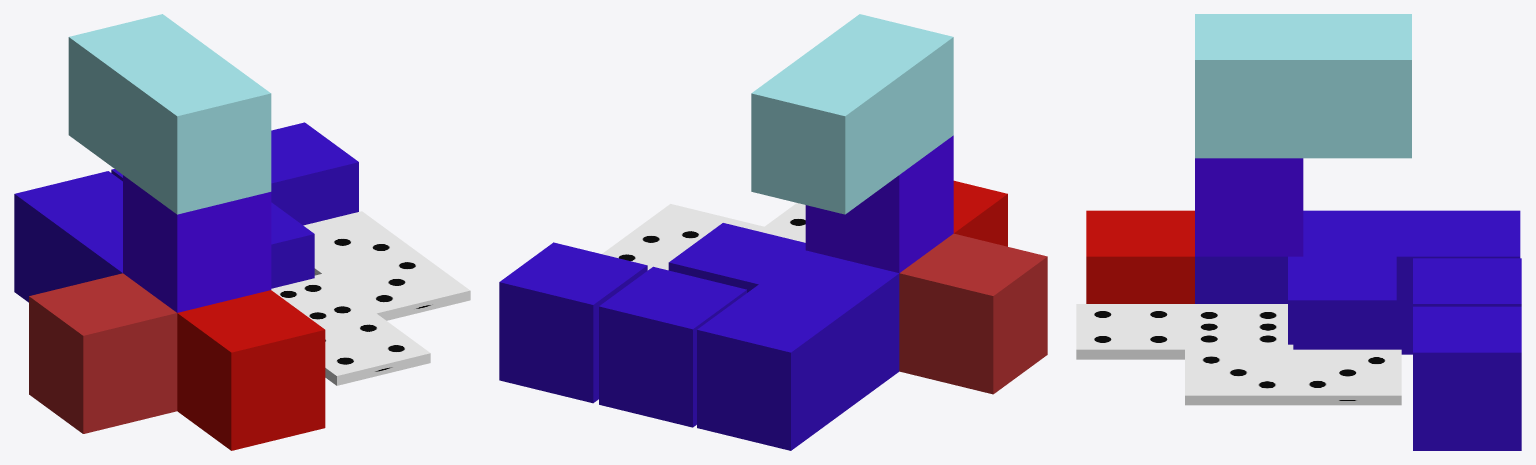
Rendered from blocks_5.glb.
The picture shows the model from 3 angles, left to right: view 1: azimuth 30°, elevation 25°; view 2: azimuth 150°, elevation 25°; view 3: azimuth 270°, elevation 25°; orthographic projection.
Visible parts, largest first — view 1: Cube.015, Cube, Cube.011, Cube.014, Cube.024, Cube.025, Cube.040, Cube.006, Cube.005, Cube.016, Cube.022, Cube.028 (+1 smaller); view 2: Cube.025, Cube, Cube.024, Cube.040, Cube.031, Cube.014, Cube.015, Cube.022, Cube.028, Cube.006, Cube.011, Cube.016 (+1 smaller); view 3: Cube.024, Cube.040, Cube.015, Cube.014, Cube.028, Cube.011, Cube.022, Cube.016, Cube.006, Cube.005, Cube.025, Cube.031 (+2 smaller).
Part boxes in pixels (x1,y1,x2,y2): Cube.015: (123,53,271,214); Cube: (29,273,177,433); Cube.011: (177,290,325,450); Cube.014: (123,175,271,312); Cube.024: (68,14,216,174); Cube.025: (14,171,122,302); Cube.040: (271,122,358,225); Cube.006: (322,251,470,320); Cube.005: (322,313,430,385); Cube.016: (303,211,415,275); Cube.022: (68,220,122,286); Cube.028: (271,202,314,288); Cube.025: (697,290,845,450); Cube: (899,233,1047,394); Cube.024: (751,53,899,214); Cube.040: (499,242,647,403); Cube.031: (599,266,746,427); Cube.014: (805,135,953,273); Cube.015: (806,14,953,174); Cube.022: (752,250,899,410); Cube.028: (668,223,805,292); Cube.006: (616,204,763,257); Cube.011: (953,180,1007,246); Cube.016: (602,243,674,270); Cube.024: (1303,14,1411,158); Cube.040: (1413,306,1521,450); Cube.015: (1195,14,1303,158); Cube.014: (1195,158,1303,256); Cube.028: (1288,254,1396,349); Cube.011: (1086,210,1194,303); Cube.022: (1303,210,1411,354); Cube.016: (1293,349,1401,405); Cube.006: (1185,349,1293,405); Cube.005: (1076,304,1184,359); Cube.025: (1412,210,1520,354); Cube.031: (1413,258,1521,306).
Size of the model in its own units: 8.2 by 6 by 8.21.
12 materials, 1 textured.
